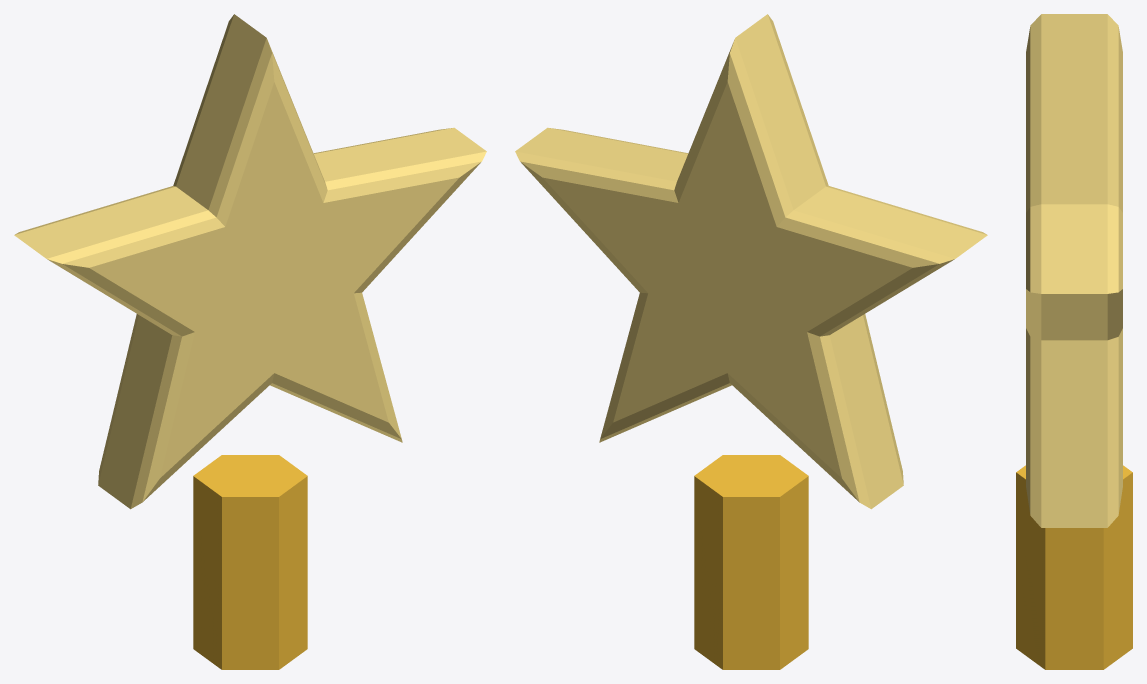
The model's file is StarTopper.fbx.
3 views of the same model, side by side, from view 1: azimuth 30°, elevation 25°; view 2: azimuth 150°, elevation 25°; view 3: azimuth 270°, elevation 25° (orthographic).
Visible parts, largest first — view 1: StarTopper; view 2: StarTopper; view 3: StarTopper.
Part boxes in pixels (box(x1,y1,x2,y2)): StarTopper: box(14, 14, 486, 669); StarTopper: box(515, 14, 987, 669); StarTopper: box(1016, 14, 1132, 669).
Bounding box in the file's own units: 2.66 × 3.6 × 0.6.
1 material, 1 textured.
